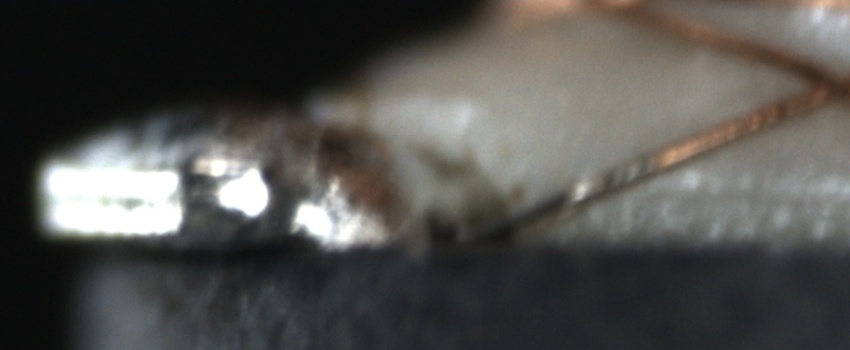CL: (778, 52, 844, 116)
DL: (620, 161, 850, 225)
TS: (456, 151, 658, 247)
